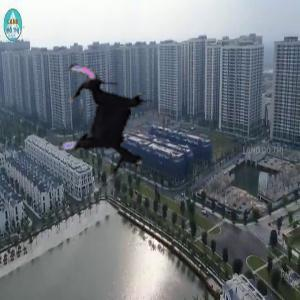drone: (34, 56, 168, 190)
